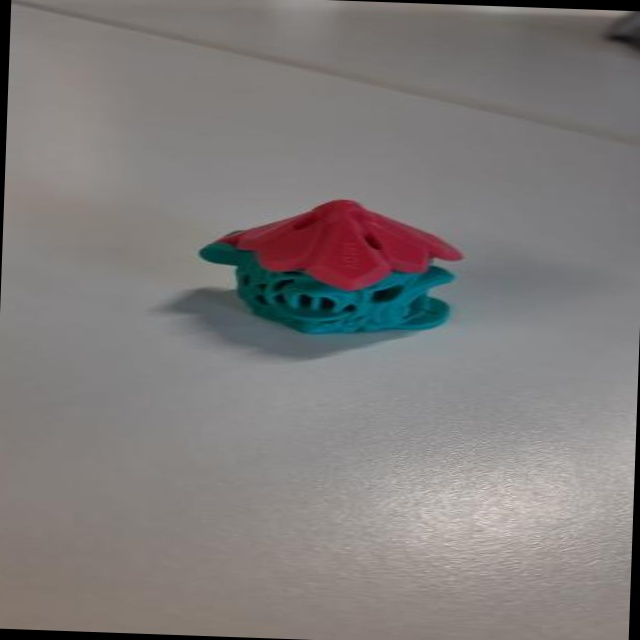House: (135, 178, 489, 367)
